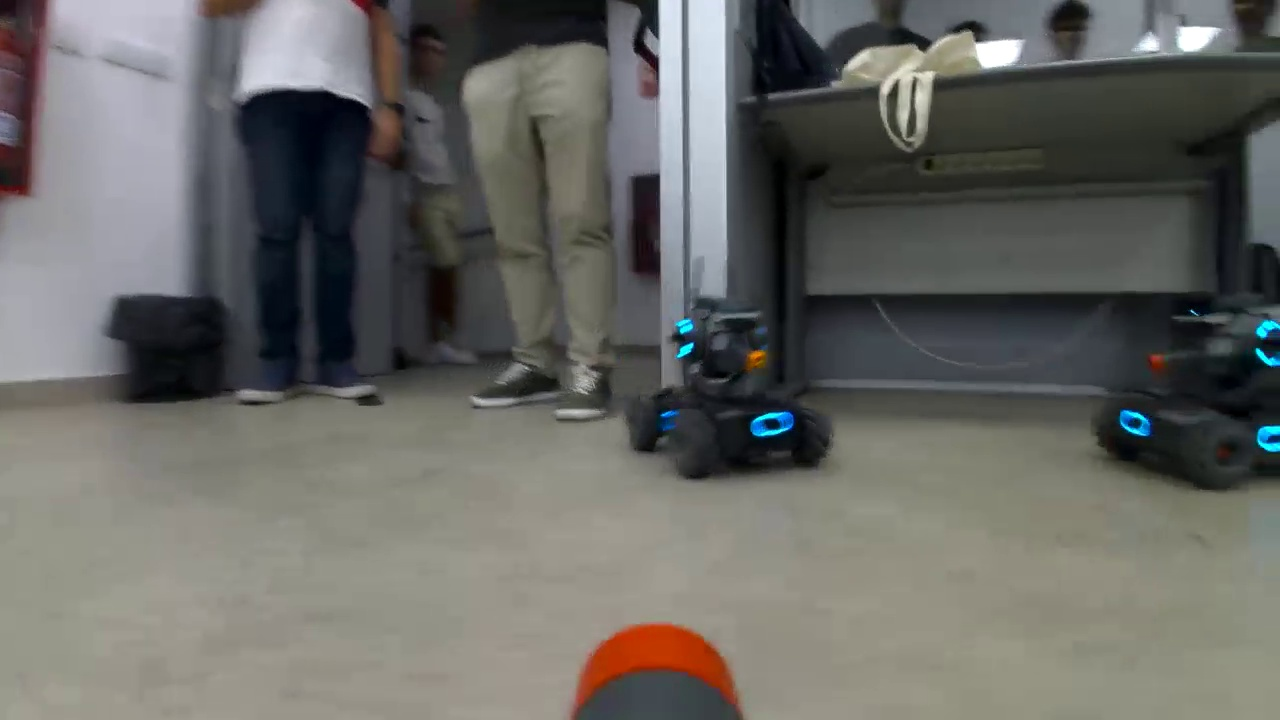robot: (1087, 290, 1280, 495), (627, 295, 833, 487)
